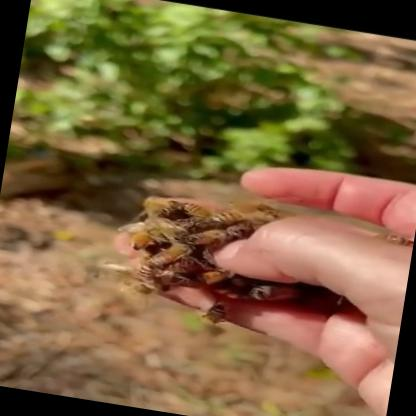bee: (95, 163, 416, 345)
